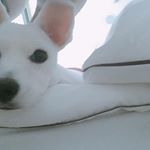puppy: (1, 2, 82, 114)
